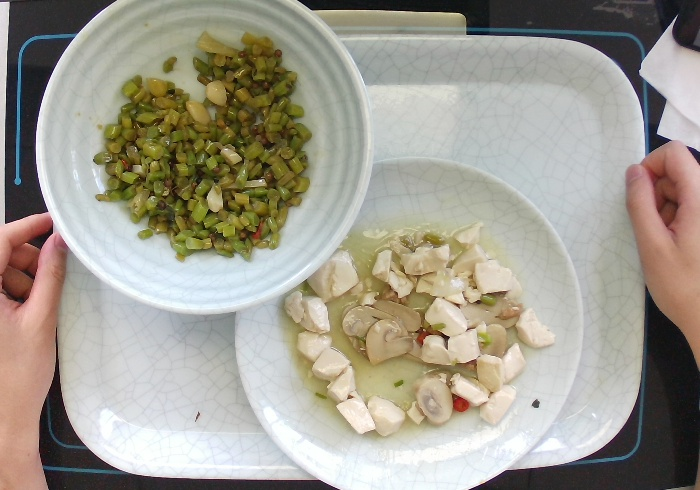JYsf-Da_Tang_Wan: (34, 1, 376, 316)
JYsf-Da_Yuan_Pan: (231, 152, 586, 490)
